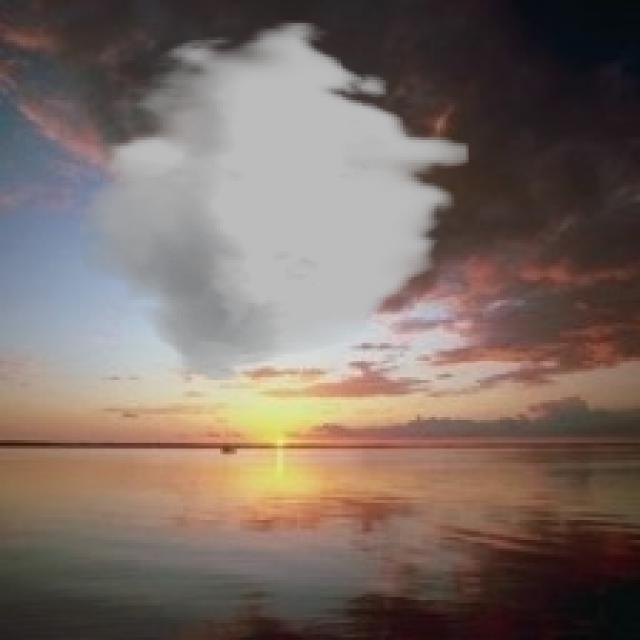smoke: (80, 20, 469, 383)
